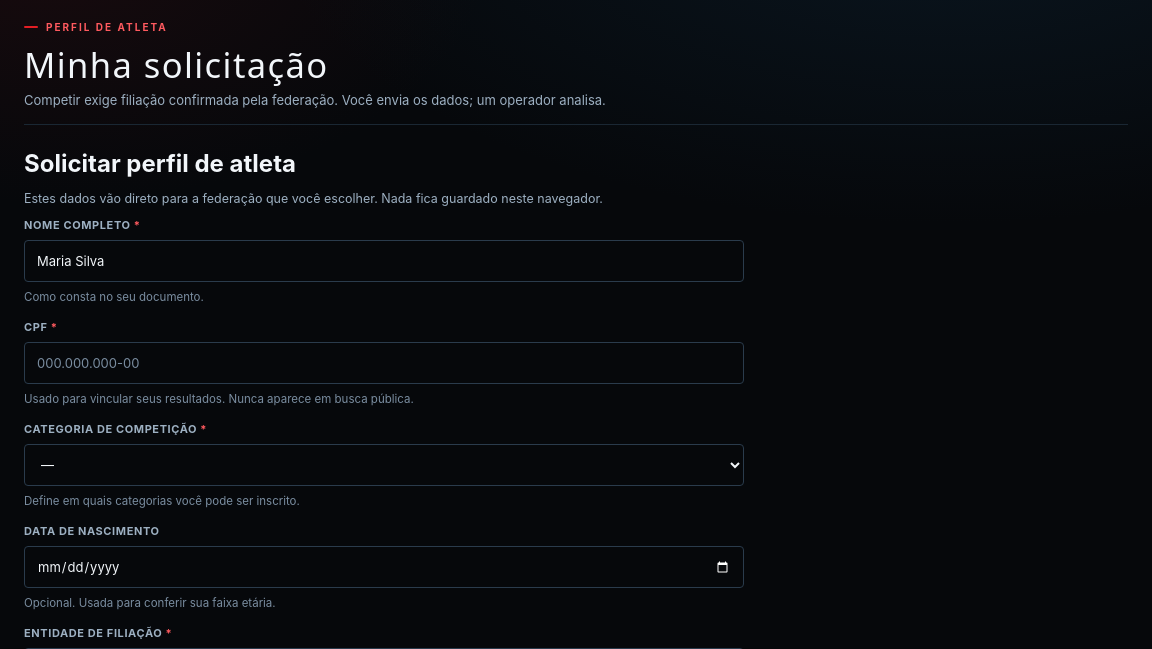
Test case: minha solicitação › cadastro que precisa da federação: a tela diz o que fazer, e não some com o formulário
Type "11144477735" into the field labelled "CPF".
click(384, 363); type("11144477735")  # box [24, 342, 744, 384]
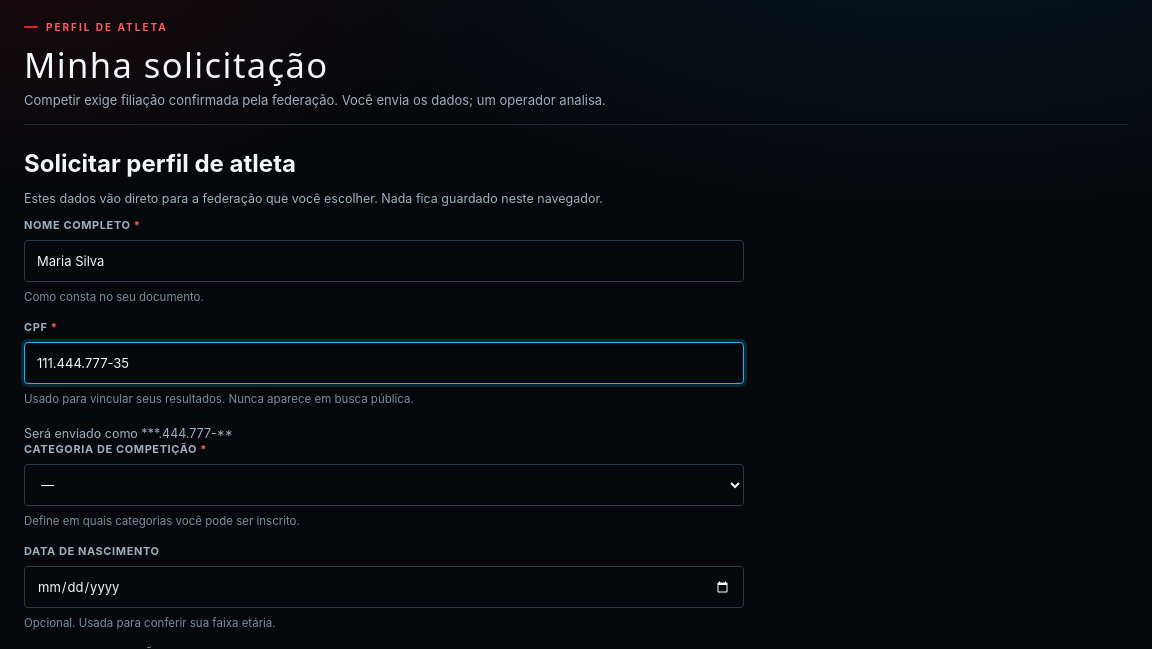
Select "Feminino" in the dropdown labelled "Categoria de competição" at (384, 485), box [24, 464, 744, 506]
(page scrolled)
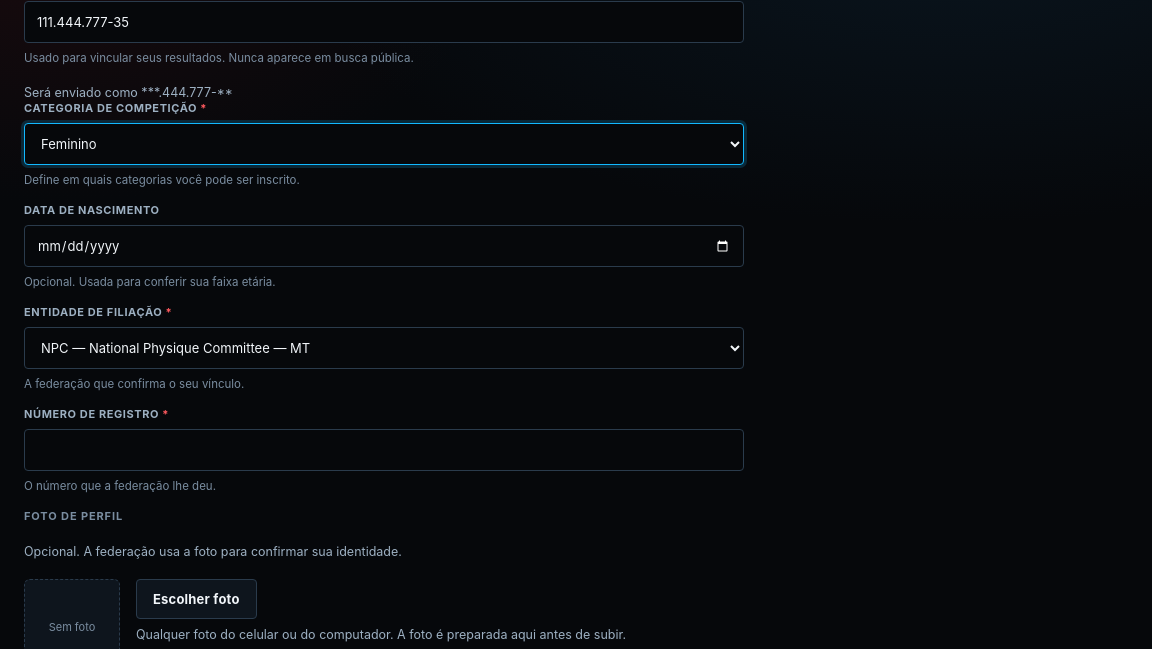
Select "NPC — National Physique Committee — MT" in the dropdown labelled "Entidade de filiação" at (384, 348), box [24, 327, 744, 369]
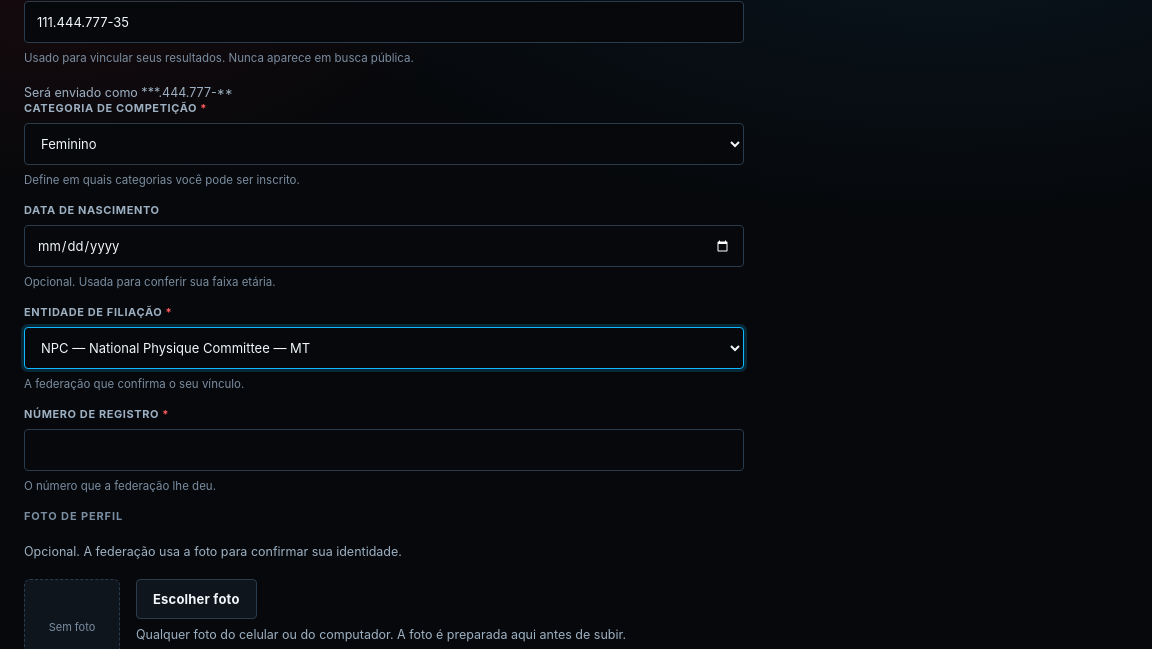
Type "NPC-123" into the field labelled "Número de registro * O número que a federação lhe deu.".
click(384, 450); type("NPC-123")  # box [24, 429, 744, 471]
(page scrolled)
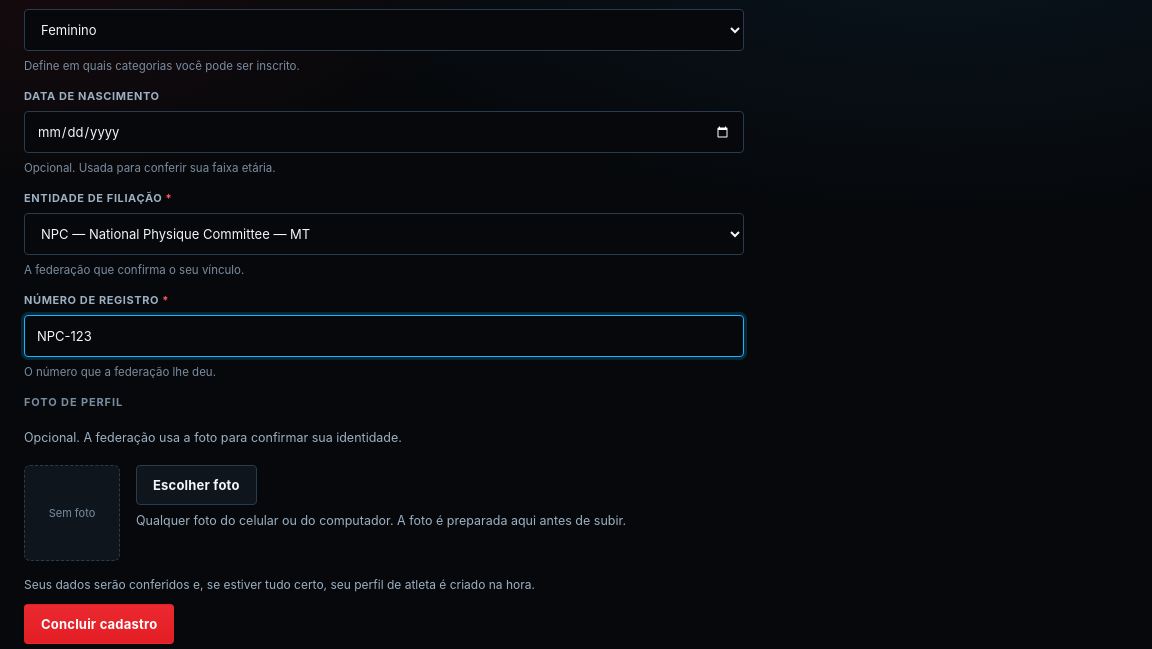
Click the button "Concluir cadastro".
click(99, 624)  # box [24, 604, 174, 644]
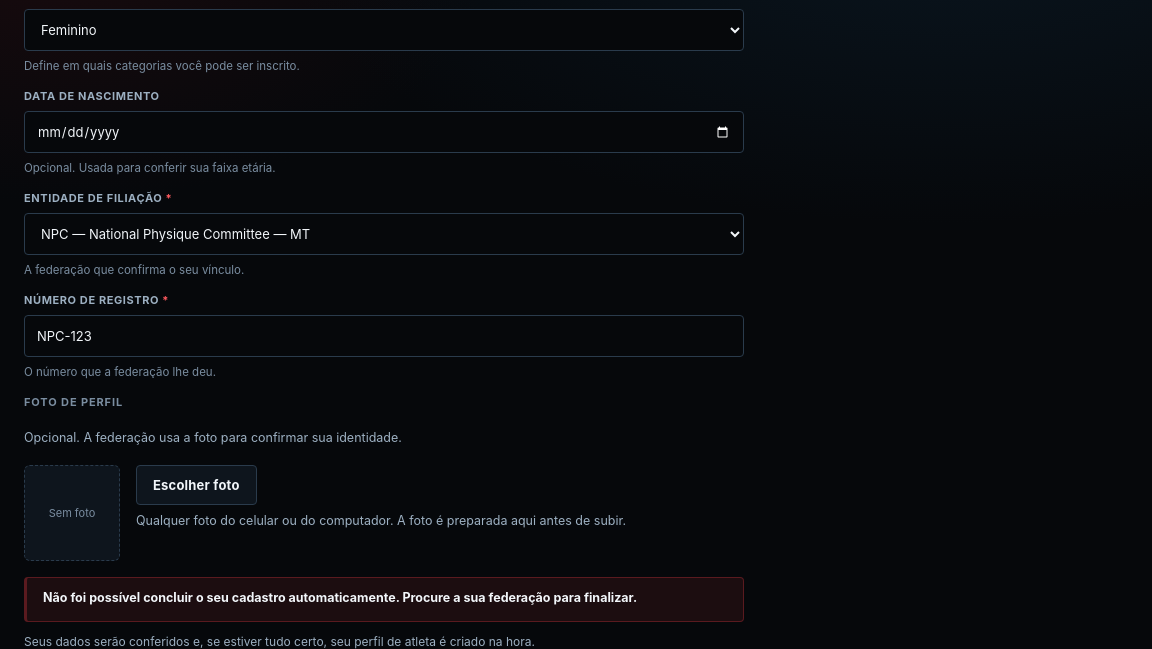
Expected: the text "procure a sua federação" is shown, [43, 590, 637, 605]
